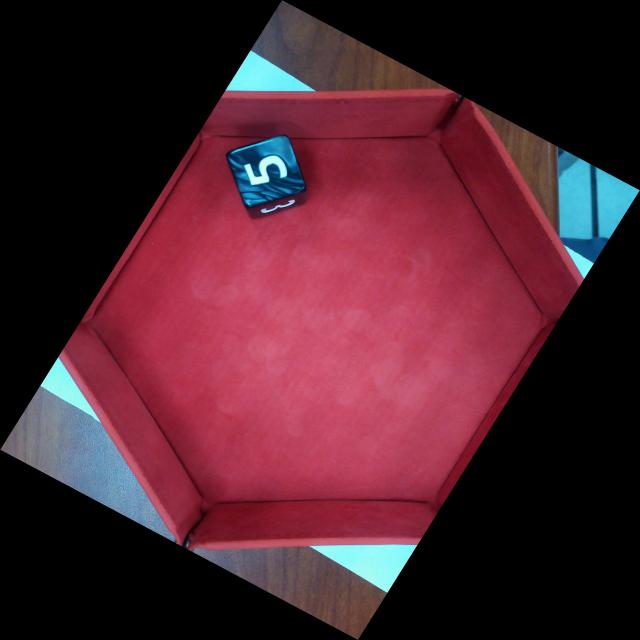dice: (233, 137, 301, 207)
